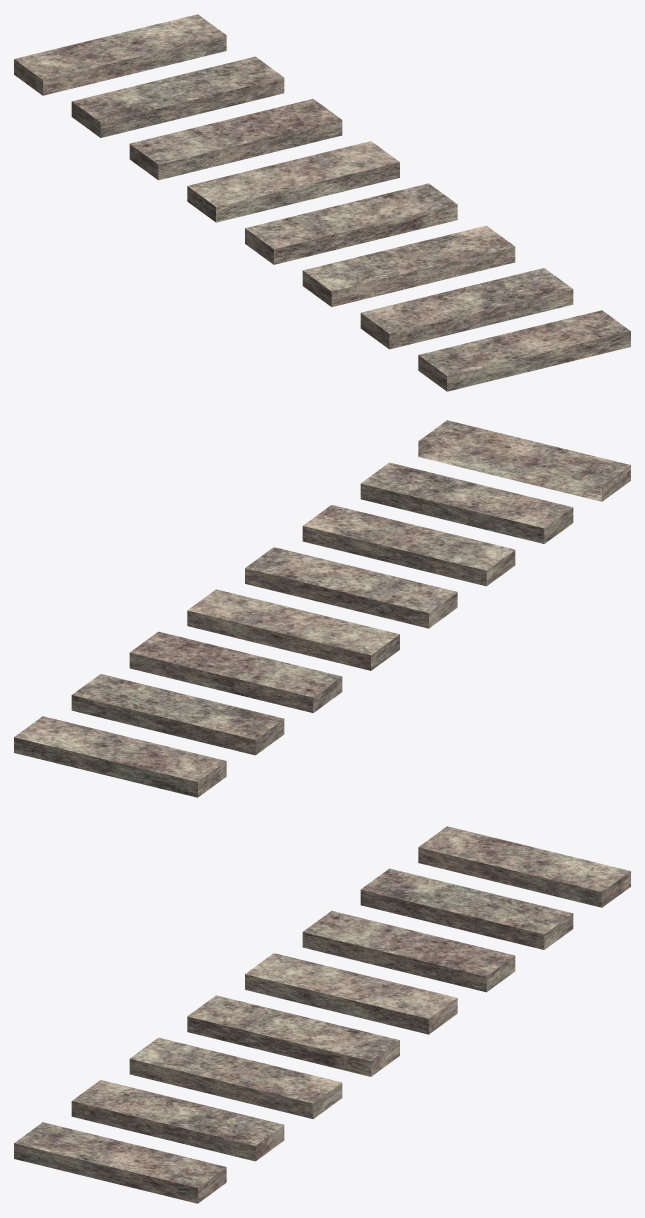
File: jumpfloor.obj
The picture shows the model from 3 angles, top to bottom: view 1: azimuth 30°, elevation 25°; view 2: azimuth 150°, elevation 25°; view 3: azimuth 330°, elevation 25°; orthographic projection.
Visible parts, largest first — view 1: Cube; view 2: Cube; view 3: Cube.
Boxes of the visible parts, bbox=[...] form: Cube: bbox=[14, 14, 630, 391]; Cube: bbox=[14, 420, 630, 797]; Cube: bbox=[14, 826, 630, 1203].
Bounding box in the file's own units: 27.19 × 2.21 × 111.
Materials: 1 (1 with a texture image).
